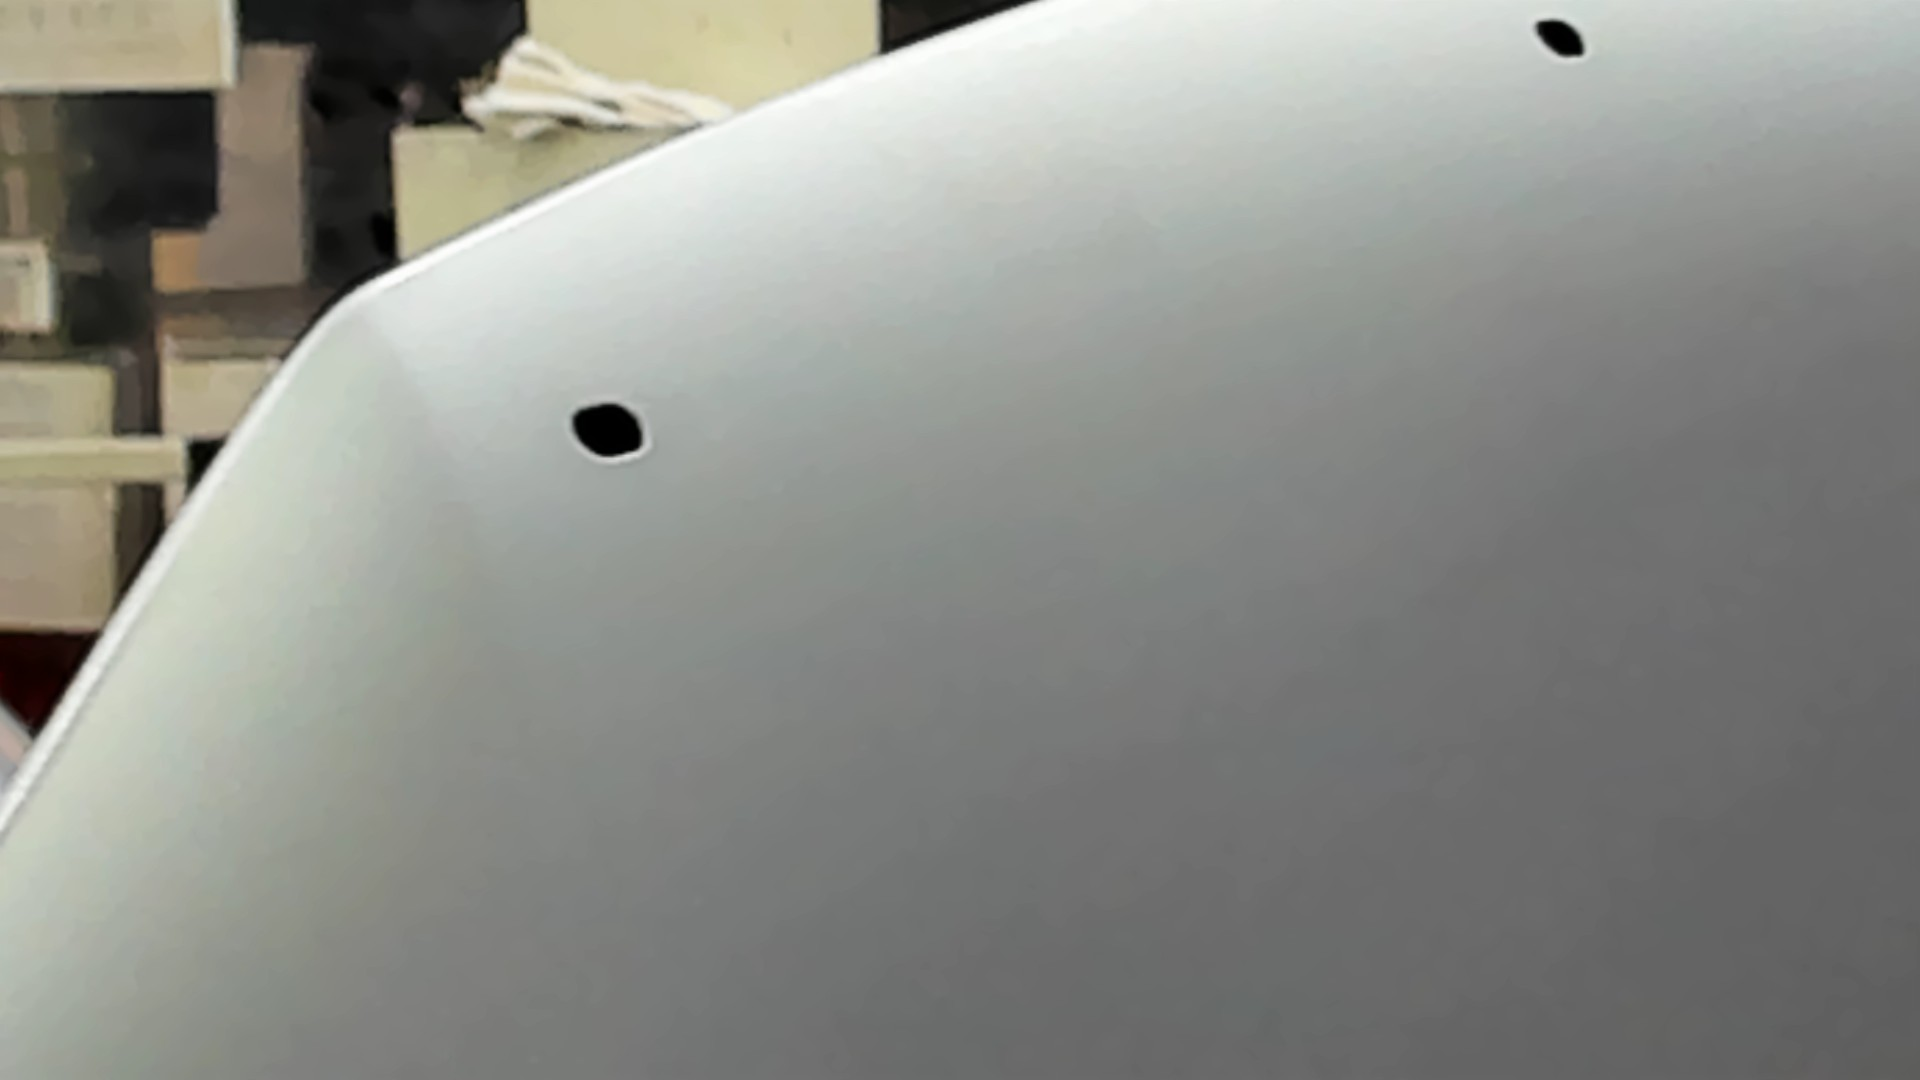amorfo: (568, 400, 654, 458), (1530, 17, 1588, 65)
